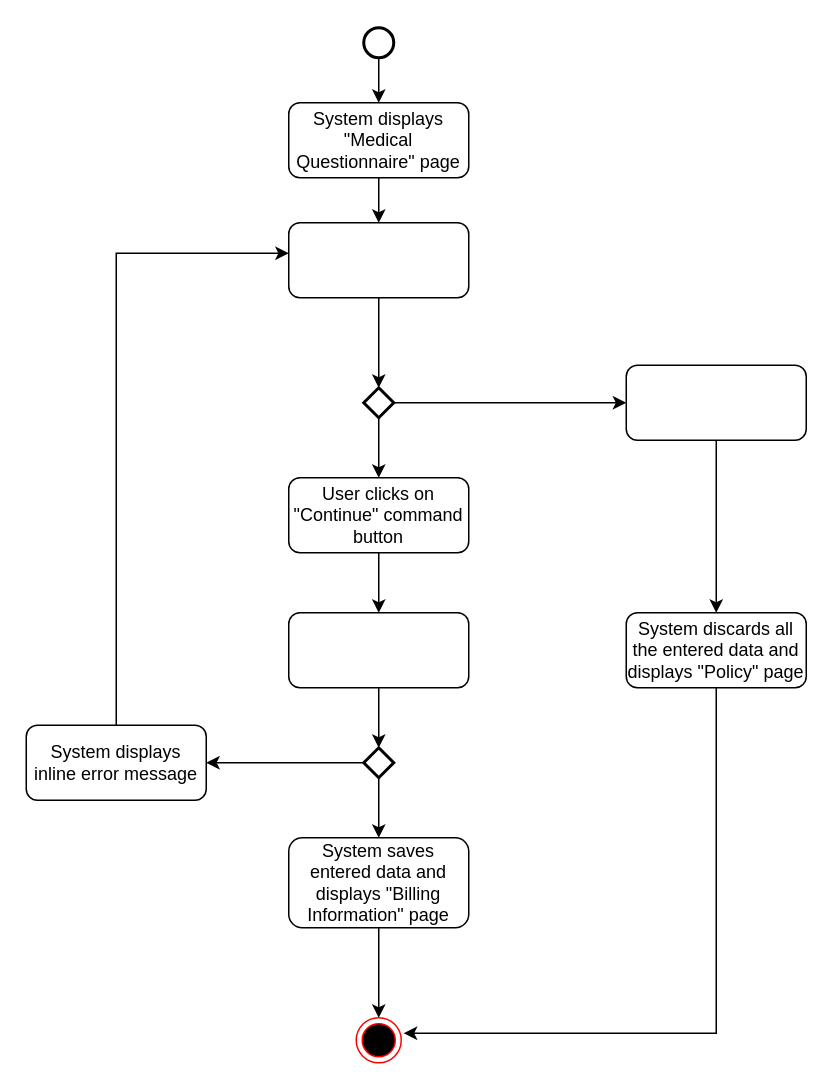
The diagram is 833 pixels wide and 1089 high, and some of its shapes have lost their labels. The centre of each missing label's shape, as x and y in pixels:
System validates the entered data: [378,649]
User answers the medical questionnaire: [378,259]
User clicks on "Cancel" command button: [715,402]
